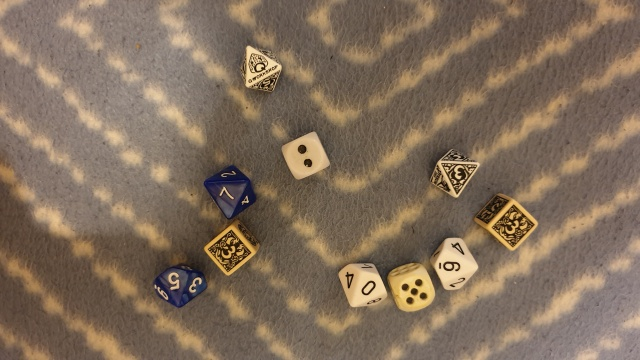d10-10: (334, 252, 391, 316)
d10-5: (147, 259, 209, 309)
d10-6: (428, 233, 480, 297)
d10-7: (198, 163, 260, 221)
d6-2: (278, 128, 337, 182)
d6-5: (386, 260, 436, 317)
d6p-3: (479, 189, 539, 258), (200, 218, 265, 278)
d8p-3: (426, 145, 480, 202)
d8p-8: (230, 38, 287, 99)
